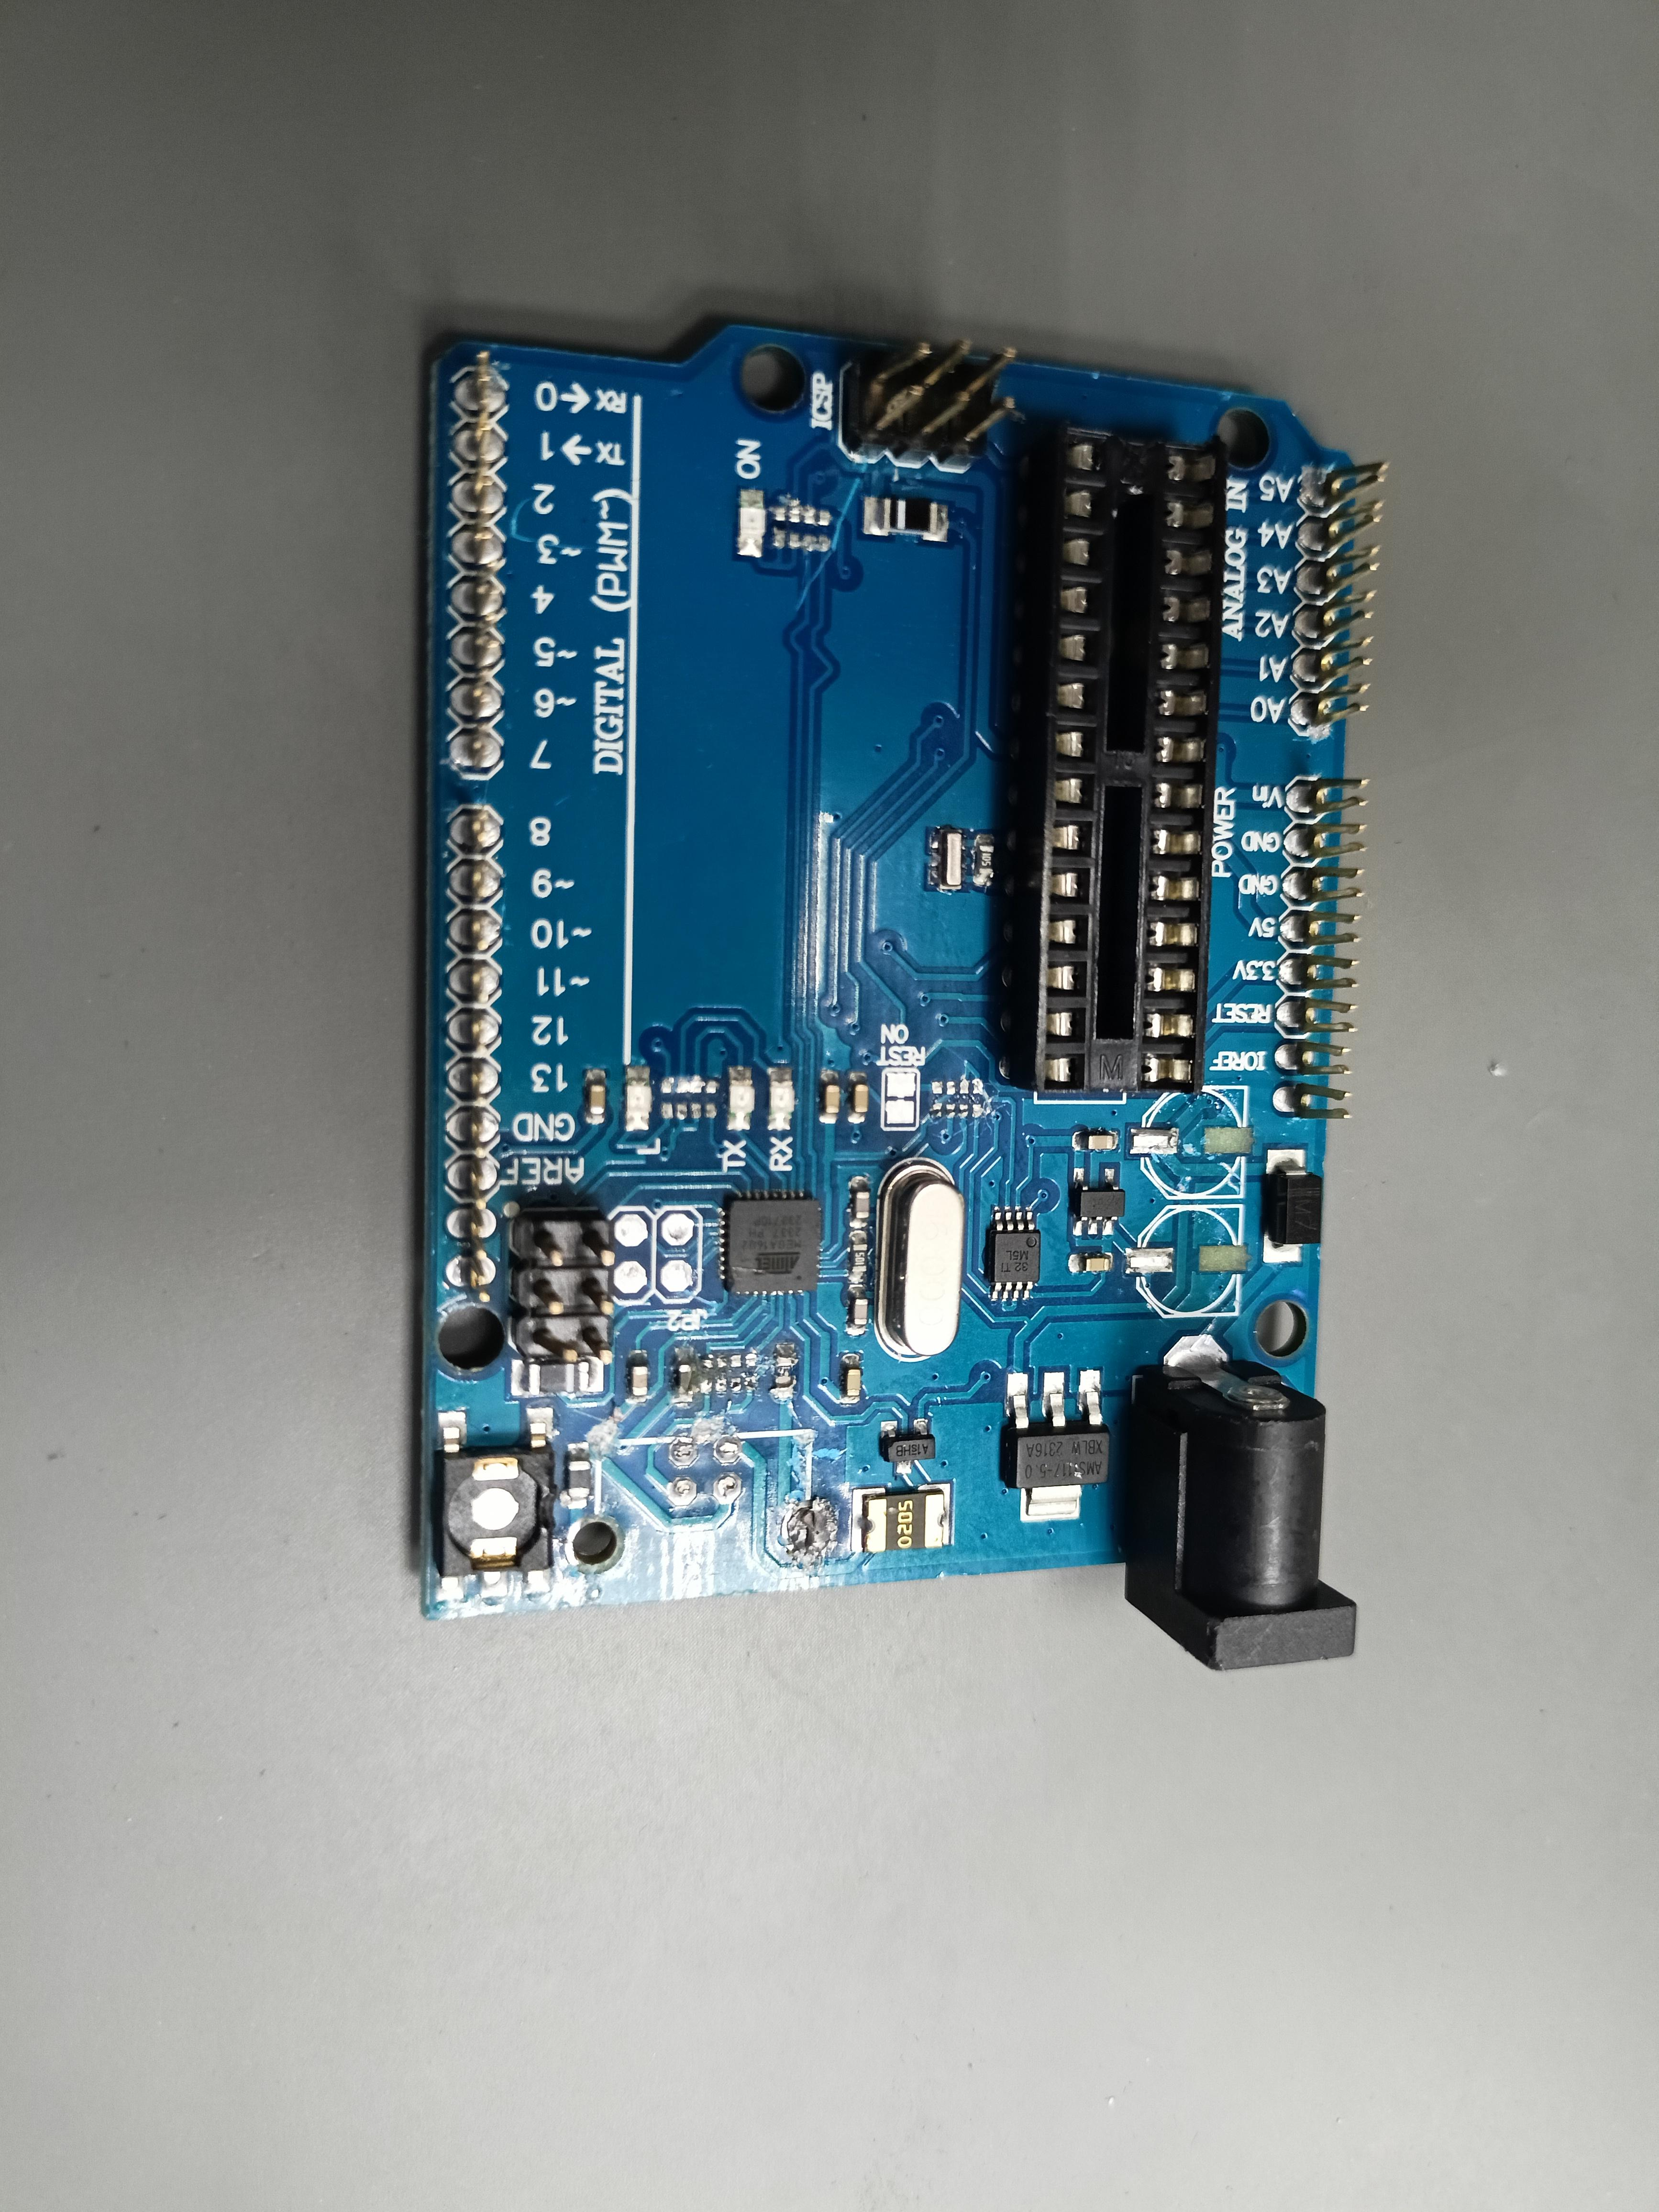Arduino board: (415, 324, 1389, 1674)
